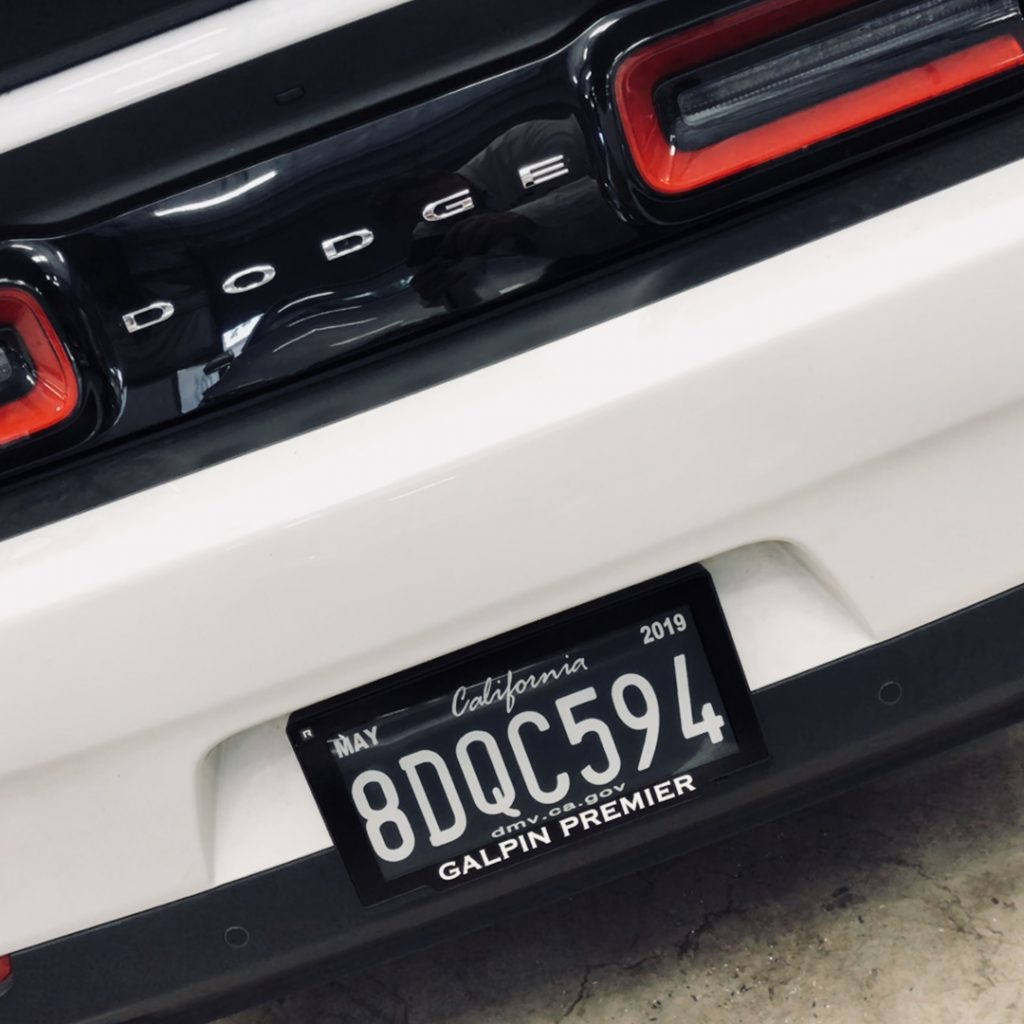license plate: (318, 589, 750, 898)
